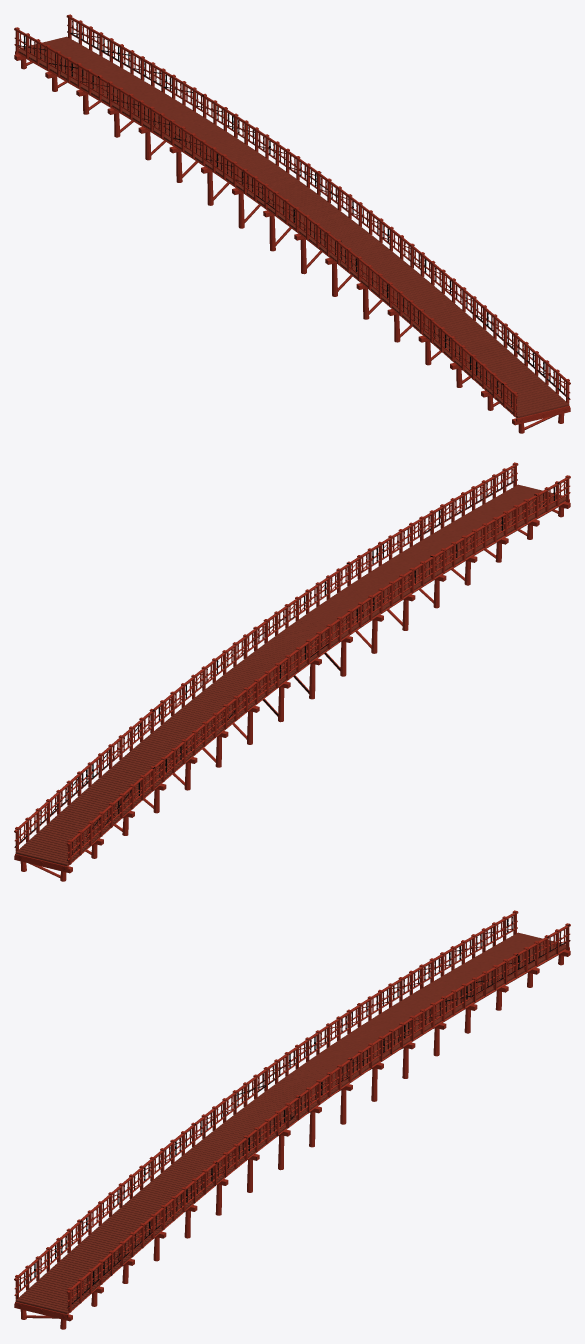
File: cau_the_huc.glb
The picture shows the model from 3 angles, top to bottom: view 1: azimuth 30°, elevation 25°; view 2: azimuth 150°, elevation 25°; view 3: azimuth 330°, elevation 25°; orthographic projection.
Parts seen in each view (by area): view 1: cau_the_huc.001; view 2: cau_the_huc.001; view 3: cau_the_huc.001.
Boxes of the visible parts, bbox=[...] form: cau_the_huc.001: bbox=[14, 14, 570, 433]; cau_the_huc.001: bbox=[14, 462, 570, 881]; cau_the_huc.001: bbox=[14, 910, 570, 1329].
Size of the model in its own units: 2.96 by 3.41 by 46.02.
Materials: 2 (2 with a texture image).
